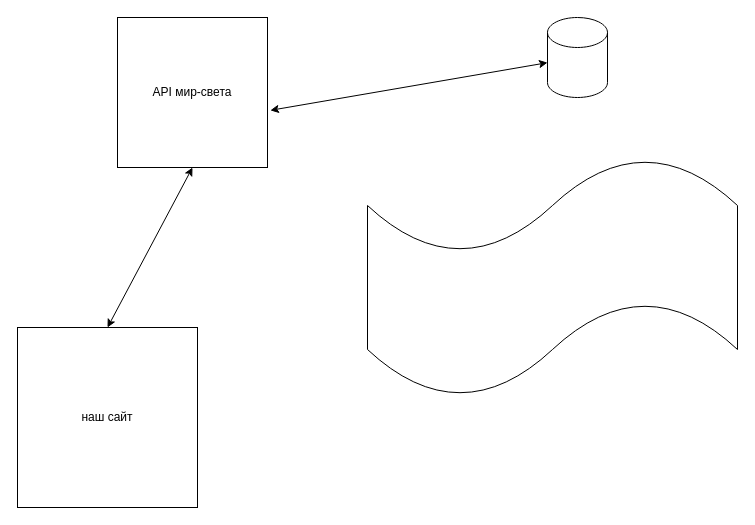
The diagram is 755 pixels wide and 525 high, and some of its shapes have lost their labels. The shapes that lost their labels are listed below. From the top down, each one's centre as x and y in pixels, then its label:
the point at 577,57: BD
the point at 552,277: Можно ли получать json c мир-света
